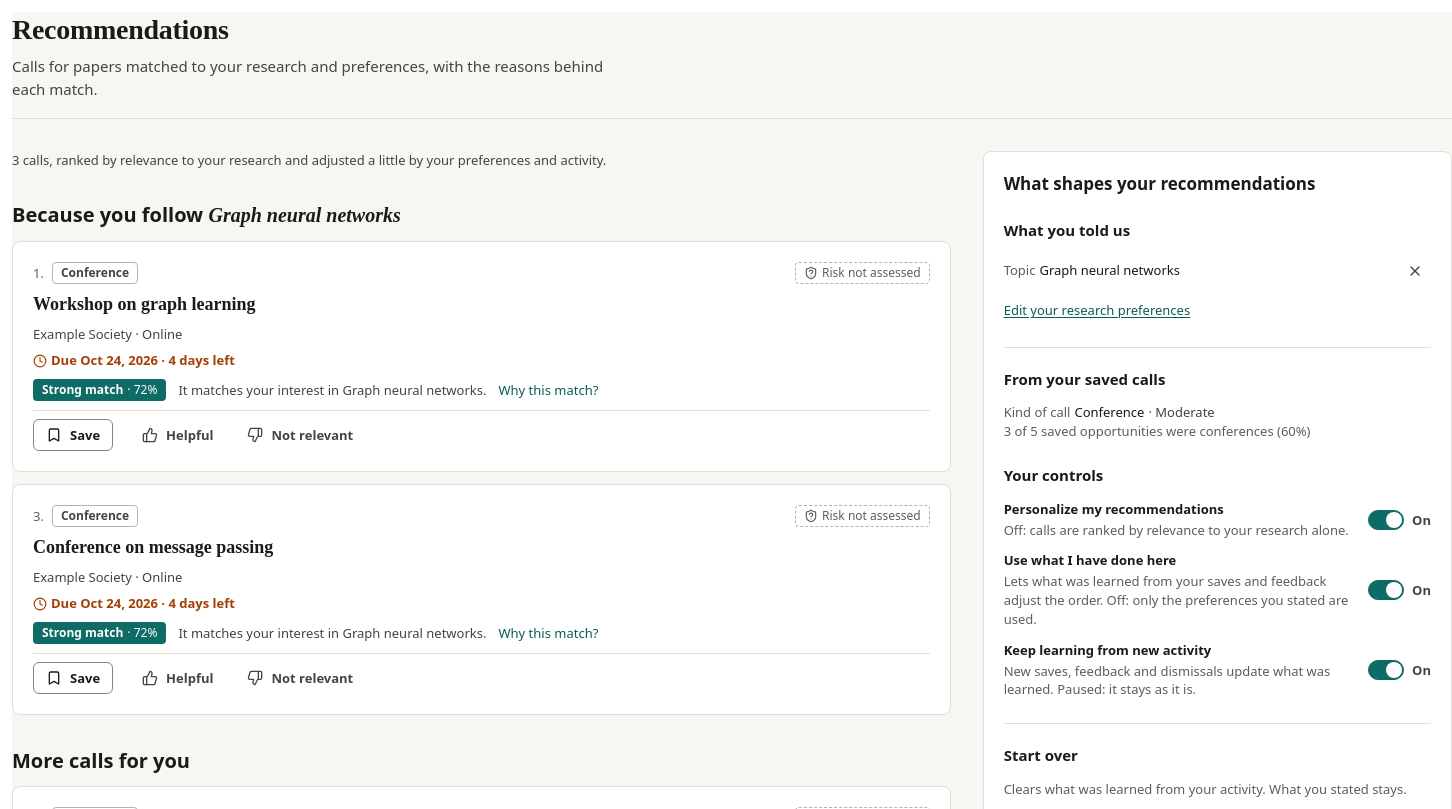
Test: recommendations page › records Helpful as recommendation feedback with its rank, and undoes it
Click the button "Helpful" below "Workshop on graph learning" at (178, 435), box [129,419,226,451]
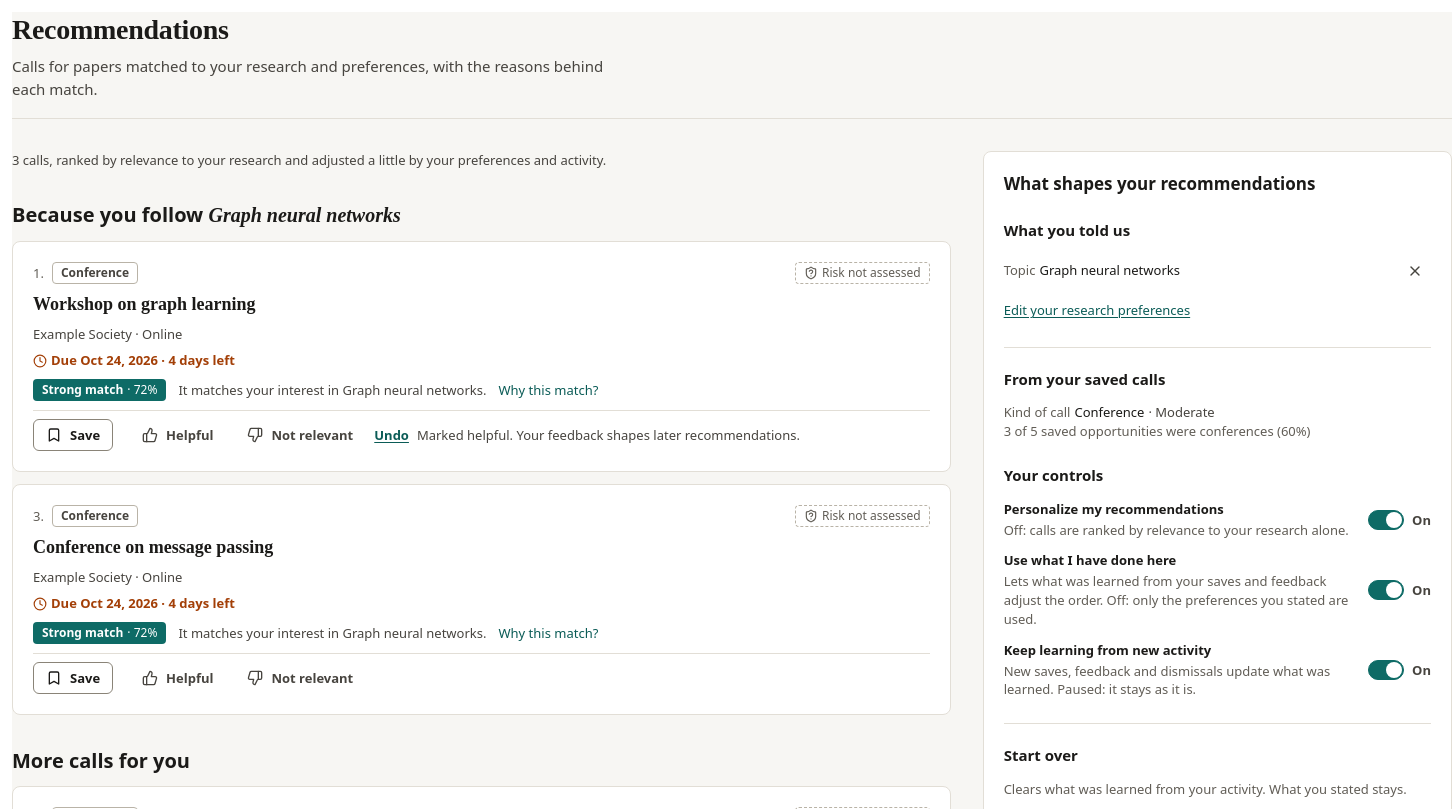
Expected: the message "Marked helpful. Your feedback shapes later recommendations." is shown, [417,426,800,445]
Click the button "Undo" at (392, 435), box [374,428,409,443]
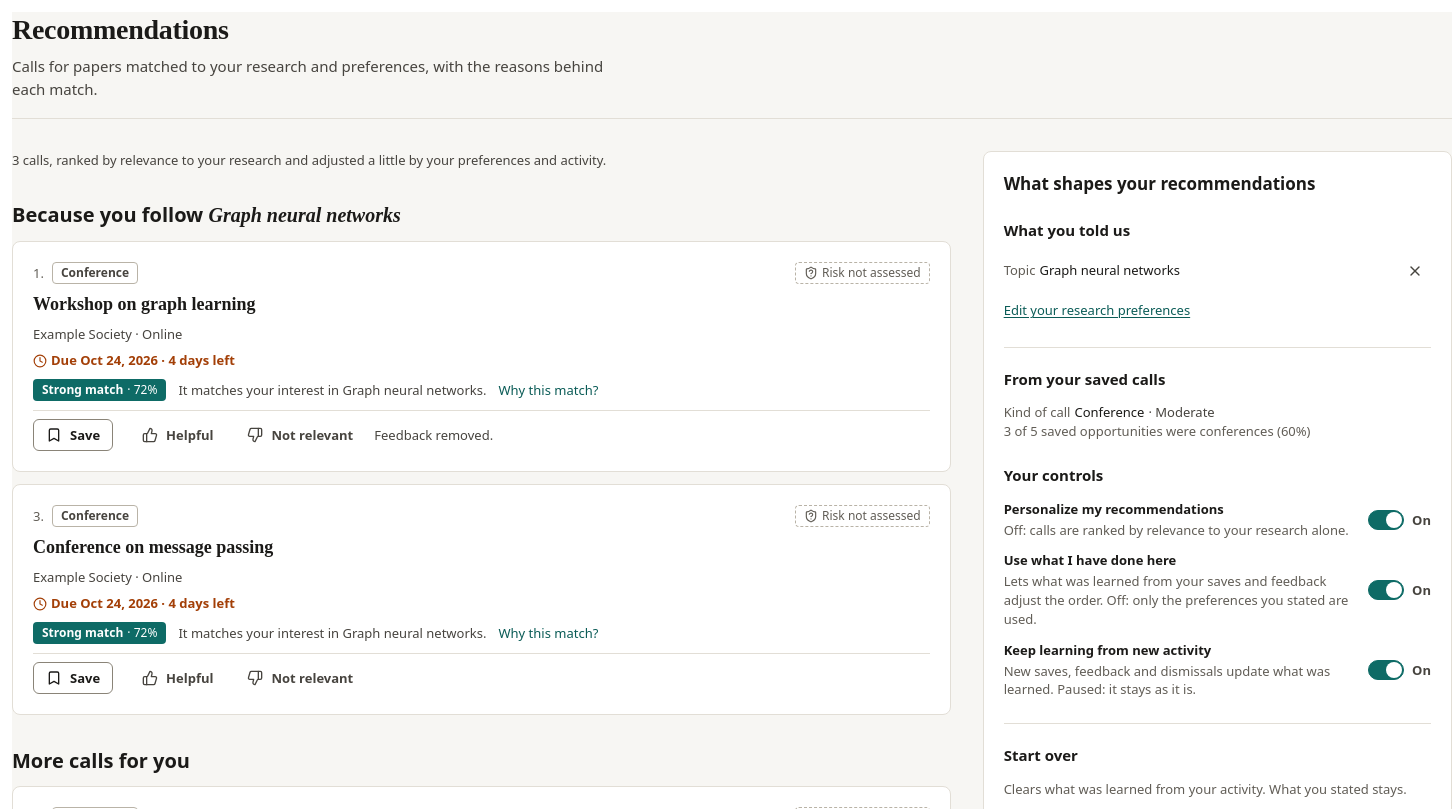
Expected: the text "Feedback removed." is shown, [374,426,493,445]
